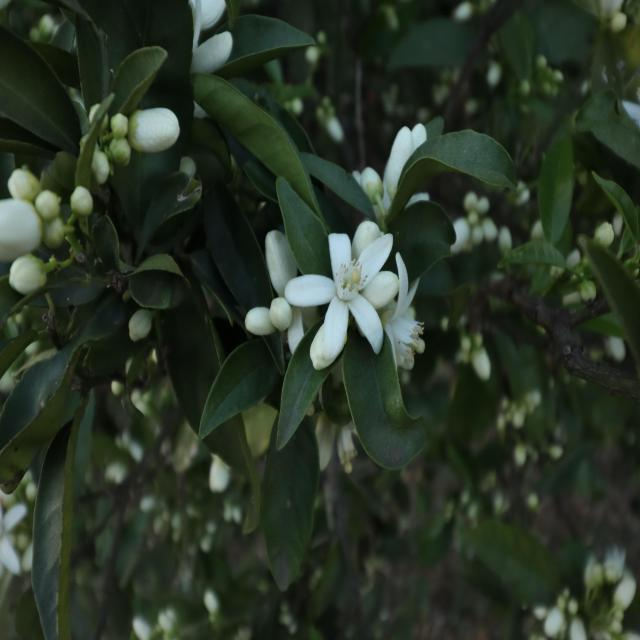Bunga: (284, 225, 422, 367), (0, 159, 84, 301), (350, 126, 422, 211), (82, 104, 175, 169), (187, 0, 230, 76)
